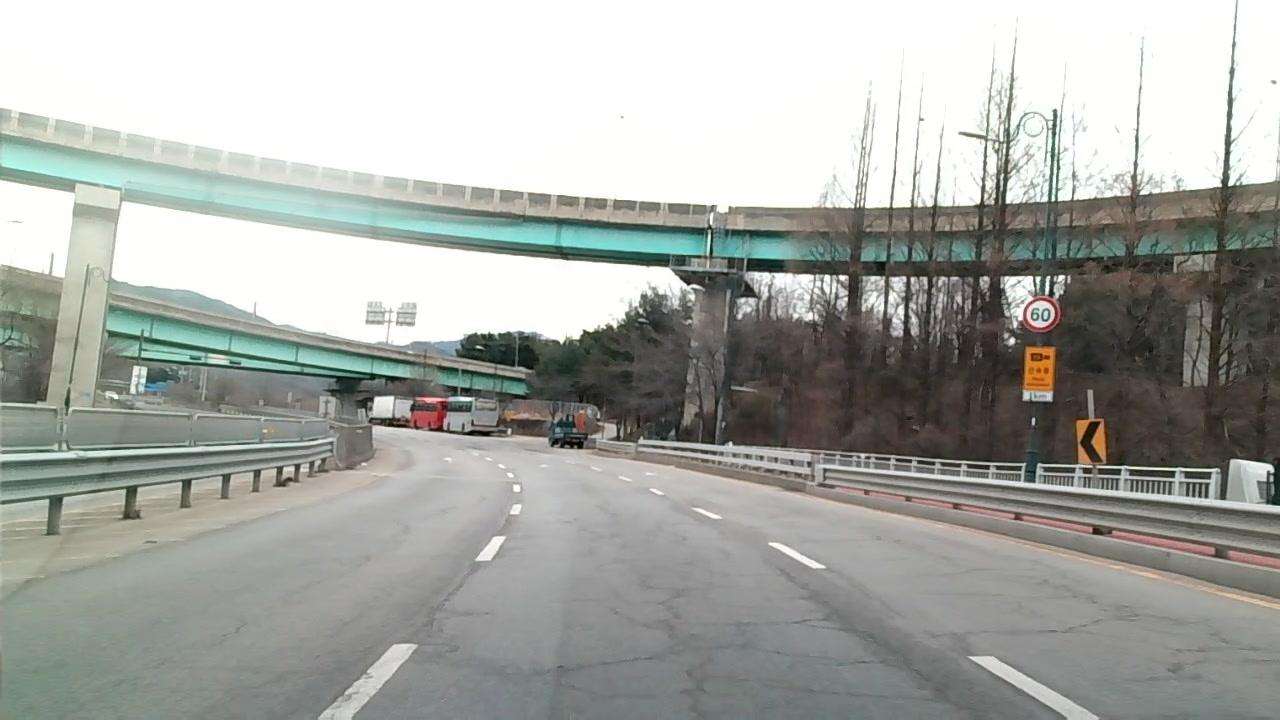vcrack: (785, 574, 936, 705), (632, 570, 761, 720), (1048, 574, 1242, 657), (412, 566, 476, 645), (525, 656, 624, 700)
